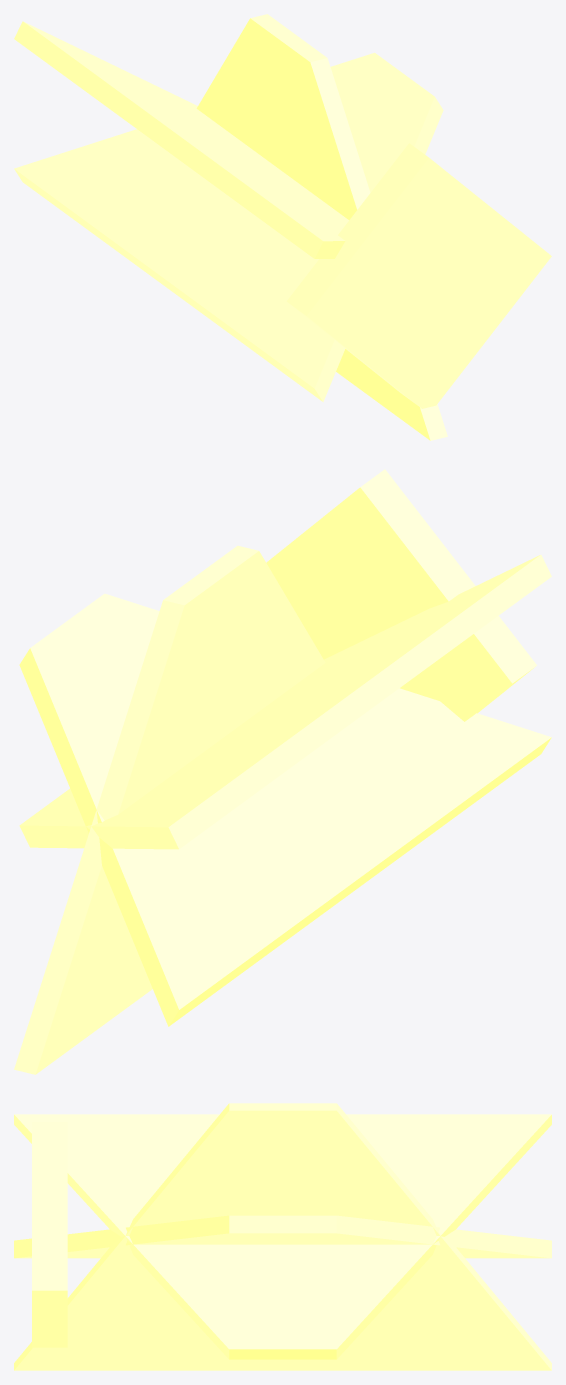
File: vfx_muzzle.glb
3 views of the same model, one above another, from view 1: azimuth 30°, elevation 25°; view 2: azimuth 150°, elevation 25°; view 3: azimuth 270°, elevation 25° (orthographic). The views are drawn at different scales.
Visible parts, largest first — view 1: vfx_muzzle__mesh; view 2: vfx_muzzle__mesh; view 3: vfx_muzzle__mesh.
Part boxes in pixels (box(x1,y1,x2,y2)): vfx_muzzle__mesh: box(14, 14, 551, 440); vfx_muzzle__mesh: box(14, 469, 551, 1074); vfx_muzzle__mesh: box(14, 1103, 551, 1370).
Size of the model in its own units: 0.1436 by 0.16 by 0.3.
